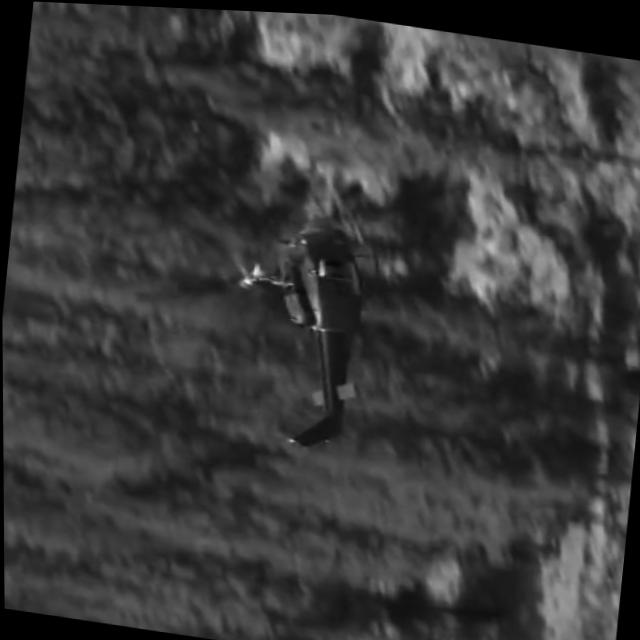helikopter: (227, 195, 404, 456)
